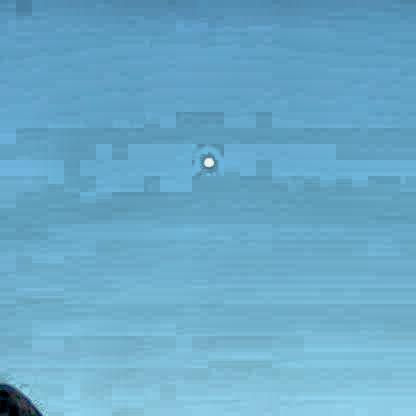golfball: (201, 153, 213, 167)
